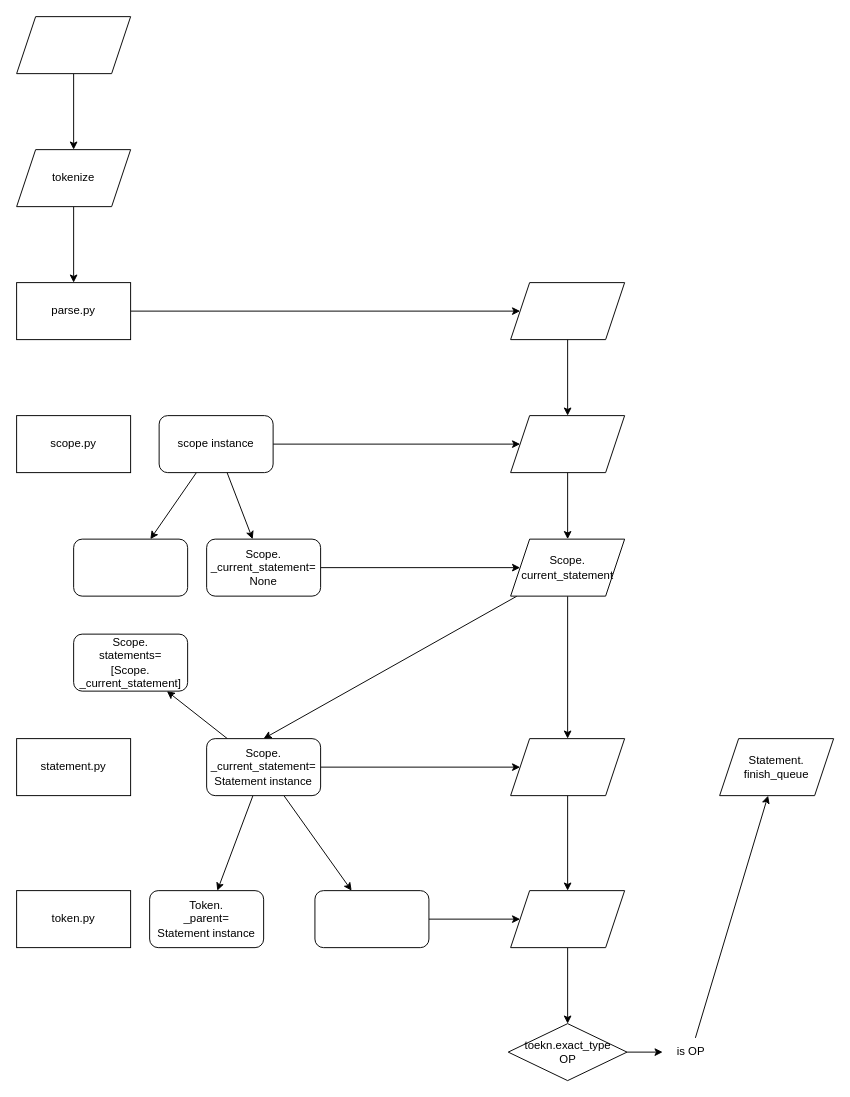
The diagram is 850 pixels wide and 1097 high, and some of its shapes have lost their labels. The centre of each missing label's shape, as x and y in pixels:
"filter_token" goes at [567,311].
"read file as 'rb'" goes at [73,45].
"Scope. statements= []" goes at [130,567].
"Scope.push" goes at [567,444].
"Stament.push" goes at [567,767].
"Statement. queue= Token instance (self)" goes at [371,919].
"Token.append" goes at [567,919].
